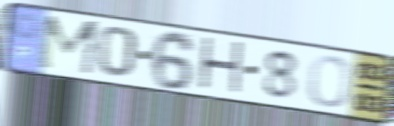0: (95, 24, 140, 80)
6: (150, 28, 198, 92)
8: (261, 48, 301, 102)
H: (196, 34, 246, 99)
M: (36, 13, 104, 79)
O: (306, 53, 353, 109)
